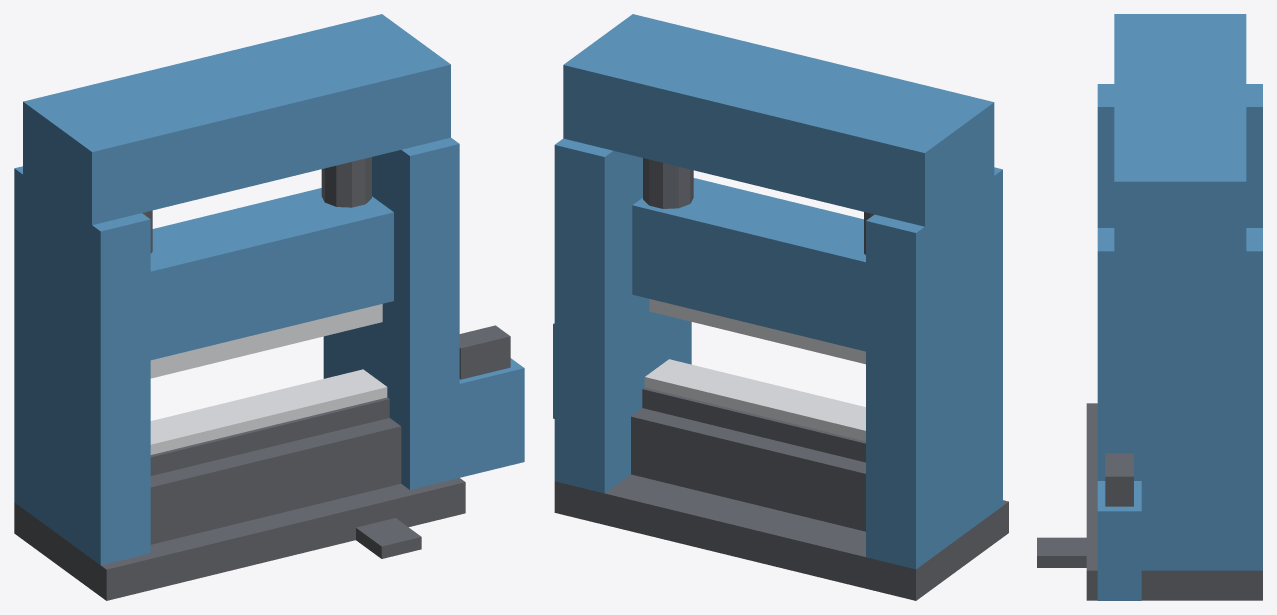
Rendered from shipyard-and-dry-dock-shipyard-and-dry-dock-press-brak-bdbaf0a2__37944.glb.
3 renders of one model, left to right at view 1: azimuth 30°, elevation 25°; view 2: azimuth 150°, elevation 25°; view 3: azimuth 270°, elevation 25°, orthographic. The views are drawn at different scales.
Parts seen in each view (by area): view 1: shipyard-and-dry-dock-press-brake, press-ram/blue, press-ram/steel; view 2: shipyard-and-dry-dock-press-brake, press-ram/blue, press-ram/steel; view 3: shipyard-and-dry-dock-press-brake.
Boxes of the visible parts, left/top/right/bottom form: shipyard-and-dry-dock-press-brake: left=14, top=14, right=524, bottom=600; press-ram/blue: left=150, top=188, right=393, bottom=360; press-ram/steel: left=150, top=304, right=382, bottom=378; shipyard-and-dry-dock-press-brake: left=553, top=14, right=1008, bottom=600; press-ram/blue: left=632, top=178, right=865, bottom=351; press-ram/steel: left=649, top=299, right=865, bottom=364; shipyard-and-dry-dock-press-brake: left=1037, top=14, right=1262, bottom=600.
Bounding box in the file's own units: 4.25 × 4.2 × 2.05.
